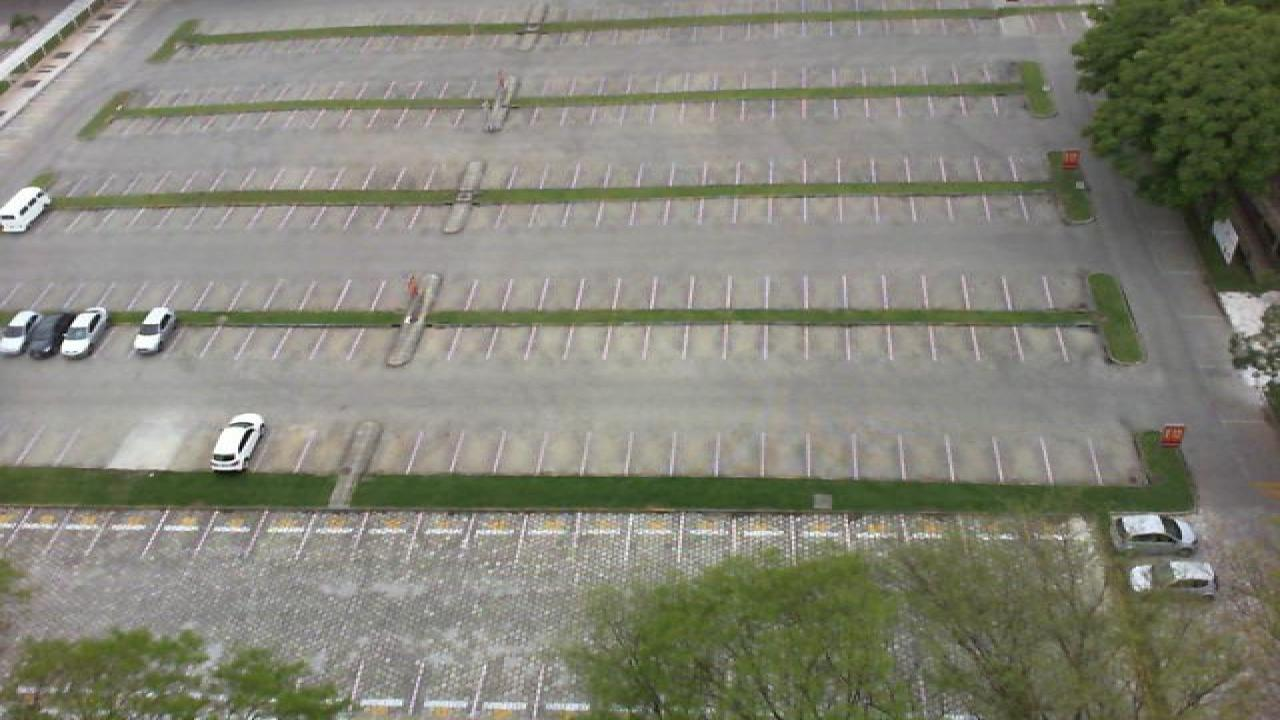Car: (1110, 512, 1200, 554), (1128, 559, 1218, 601), (208, 413, 266, 471), (0, 184, 52, 234), (60, 307, 110, 358), (130, 306, 176, 356), (26, 310, 72, 359), (0, 309, 36, 358)
